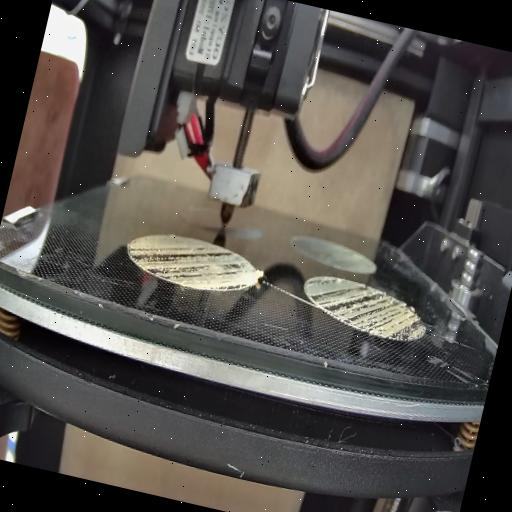under_extrusion: (300, 272, 428, 342), (126, 230, 252, 298)
